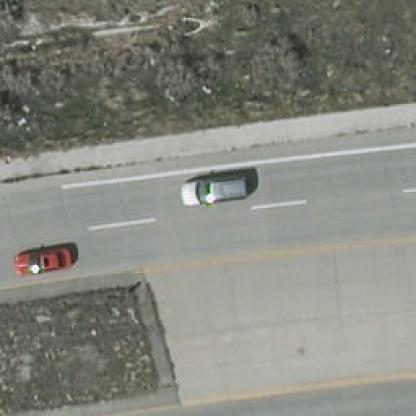car: (179, 169, 247, 208), (10, 245, 74, 272)
